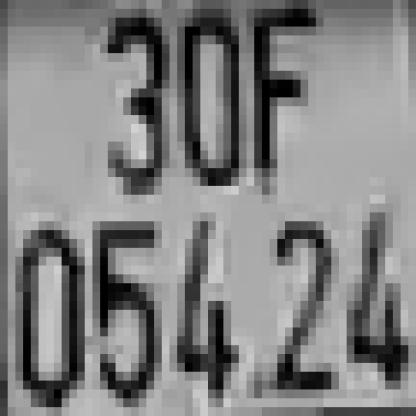0: (15, 222, 85, 398), (177, 9, 239, 195)
2: (262, 204, 331, 380)
3: (100, 9, 170, 195)
4: (339, 204, 401, 380), (170, 212, 231, 390)
5: (92, 212, 162, 398)
F: (247, 9, 308, 186)
